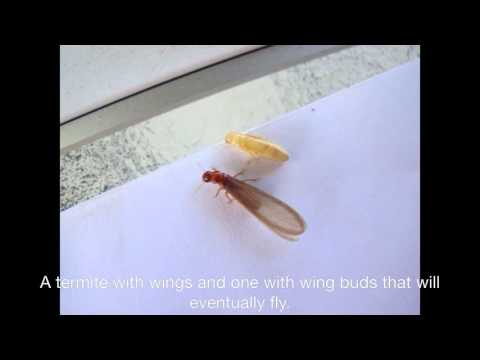flying termite: (189, 158, 314, 255)
